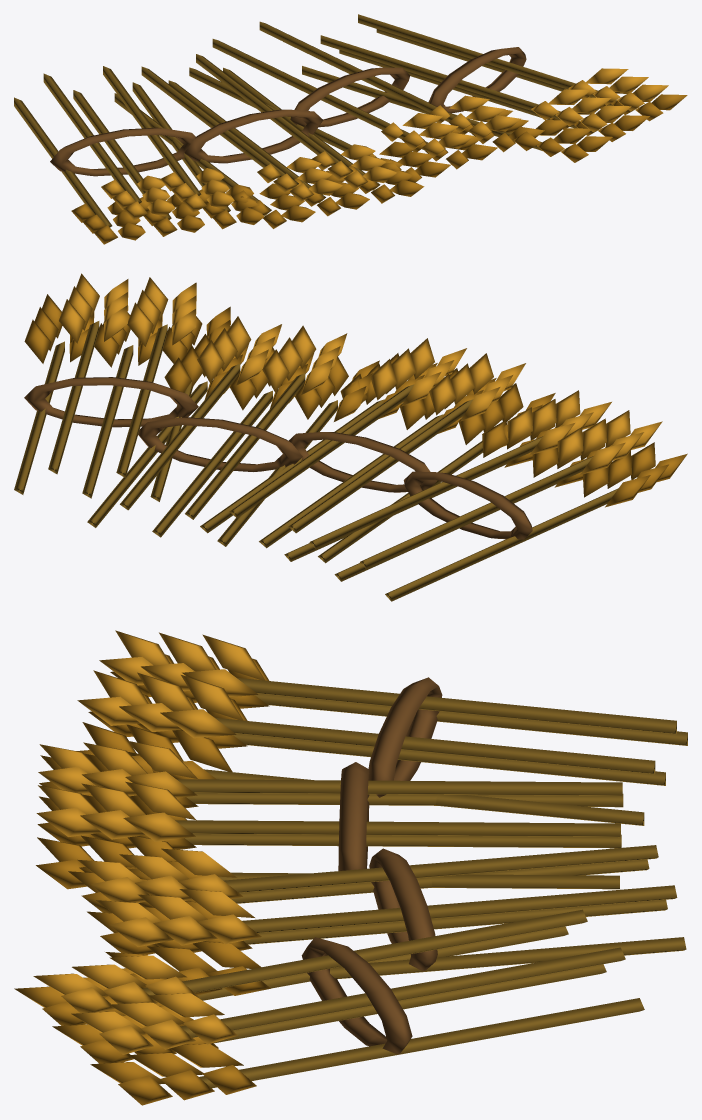
The model's file is pile-rice-4.obj.
The picture shows the model from 3 angles, top to bottom: view 1: azimuth 30°, elevation 25°; view 2: azimuth 150°, elevation 25°; view 3: azimuth 270°, elevation 25°; orthographic projection. The views are drawn at different scales.
Visible parts, largest first — view 1: pile-rice-4; view 2: pile-rice-4; view 3: pile-rice-4.
Part boxes in pixels (x1,y1,x2,y2): pile-rice-4: (14, 14, 687, 244); pile-rice-4: (14, 273, 687, 601); pile-rice-4: (14, 630, 687, 1105).
Size of the model in its own units: 0.7921 by 0.0664 by 0.5089.
Materials: 1 (1 with a texture image).
